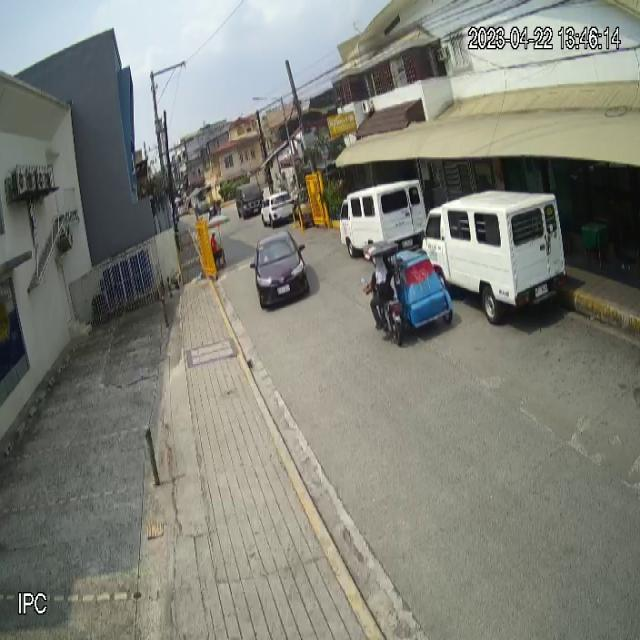Car: (250, 228, 309, 311)
Tricycle: (359, 241, 454, 346)
Van: (420, 187, 568, 326), (340, 178, 428, 259)
